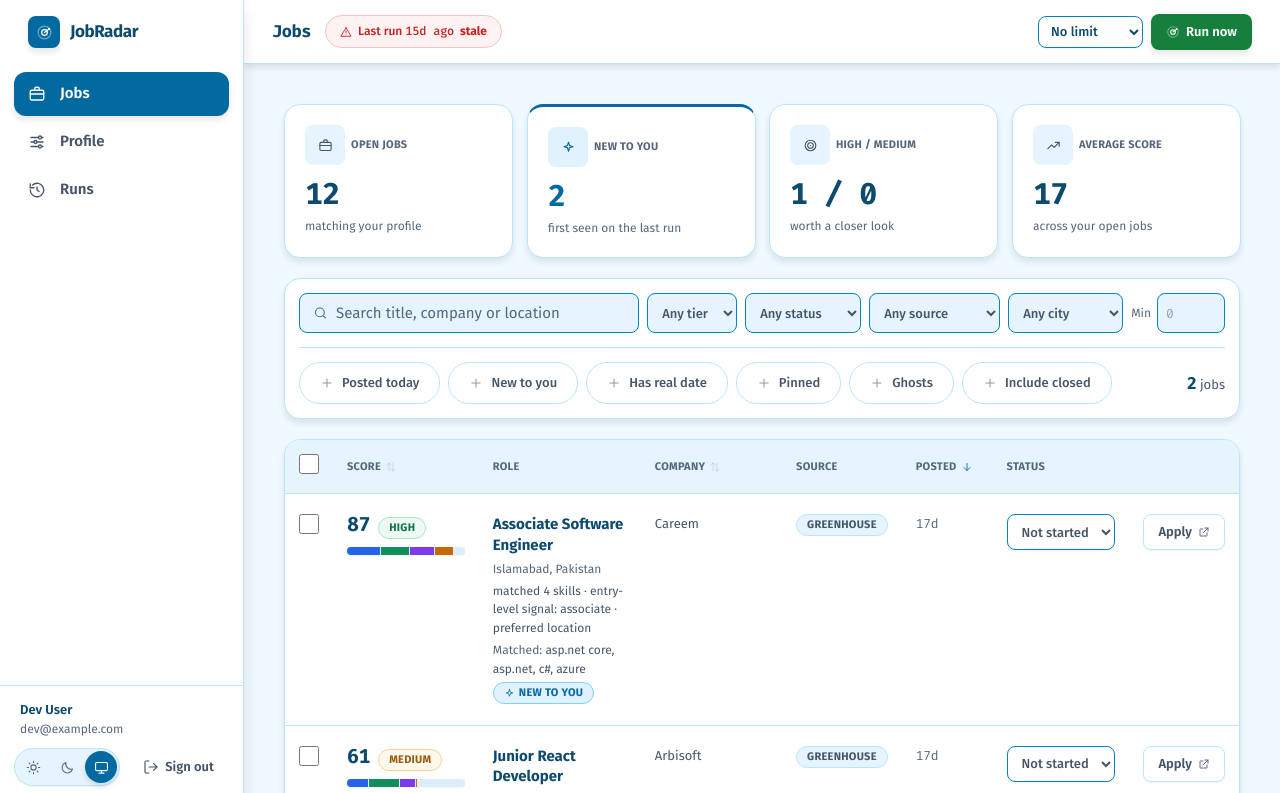
status updates › rolls back visibly when the save fails
The image size is (1280, 793).
Check: the heading "Jobs" is shown, box top-left (272, 18), bottom-right (311, 45)
Select "Applied" in the dropdown named "application status for associate" in the row of "87" at (1061, 532), box top-left (1007, 514), bottom-right (1116, 550)
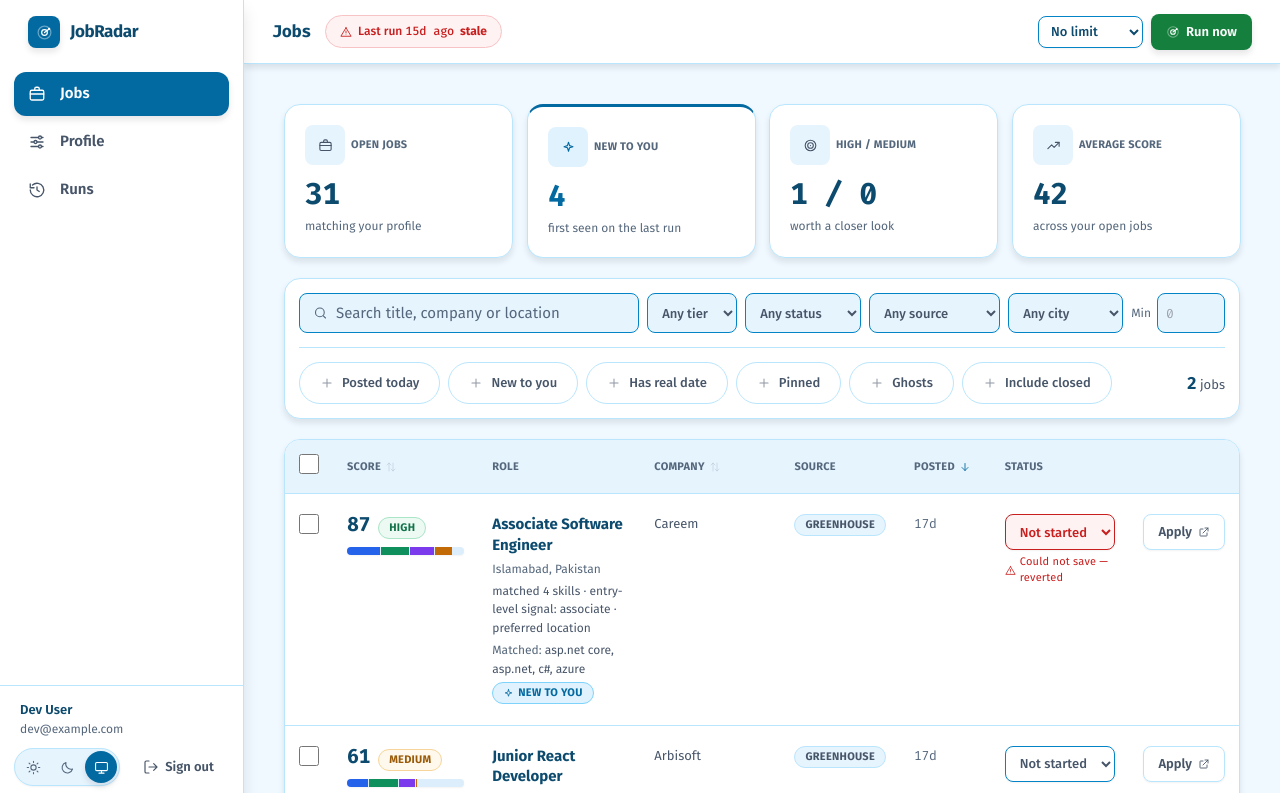
Check: the text "Could not save — reverted" is shown, box top-left (1020, 555), bottom-right (1108, 584)
